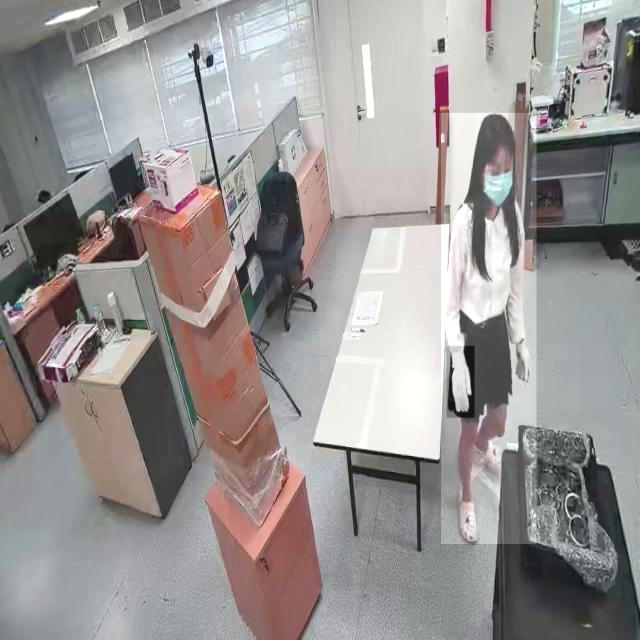face_mask: (478, 151, 518, 209)
hand_glove: (446, 346, 474, 418), (514, 332, 532, 394)
head_nohelmet: (476, 111, 516, 149)
person: (441, 113, 536, 545)
